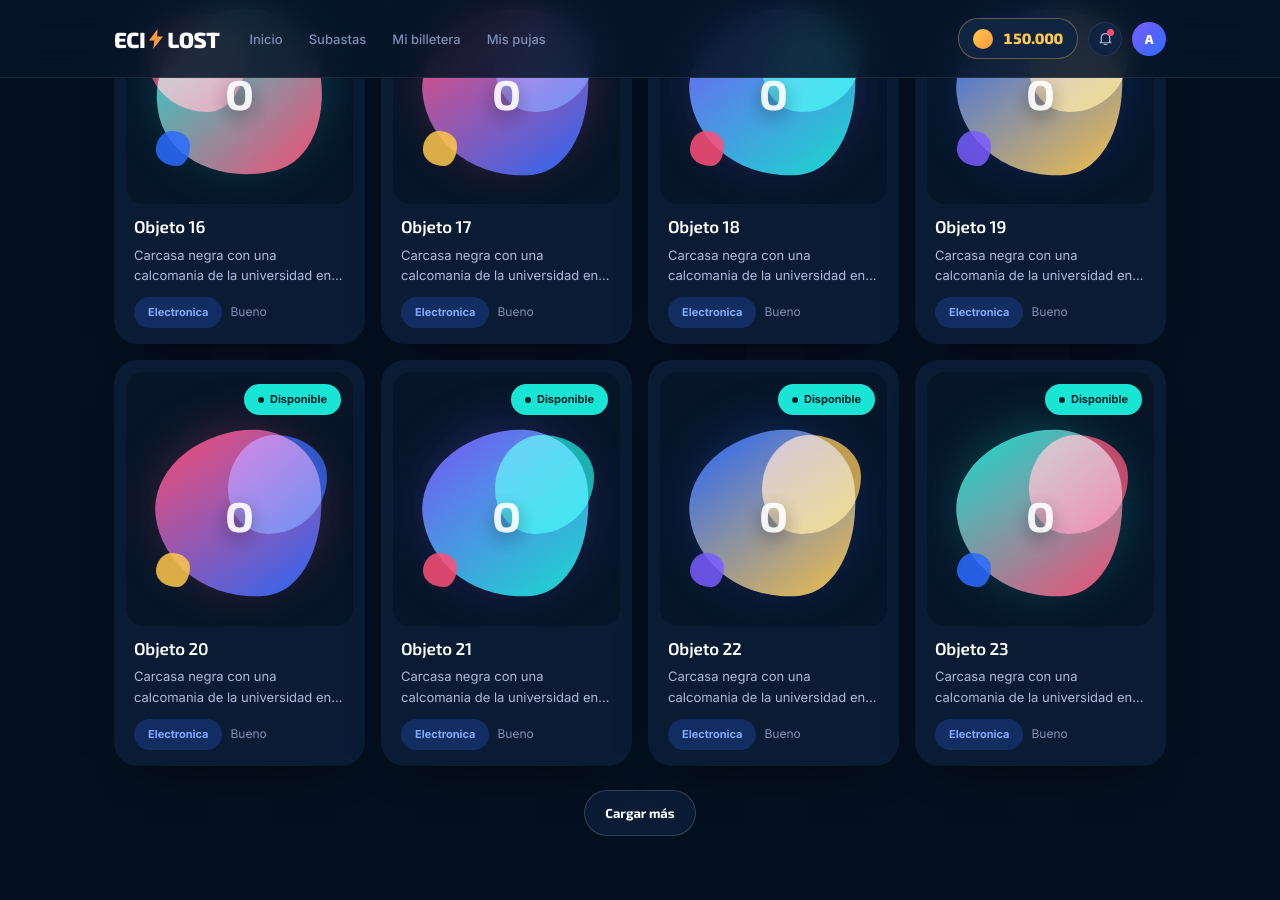
Catalogo › no finge que la primera pagina es todo el catalogo: ofrece cargar mas
(page scrolled)
Step 1. Click the button "Cargar más" → point(640, 813), box [584,790,696,836]
(page scrolled)
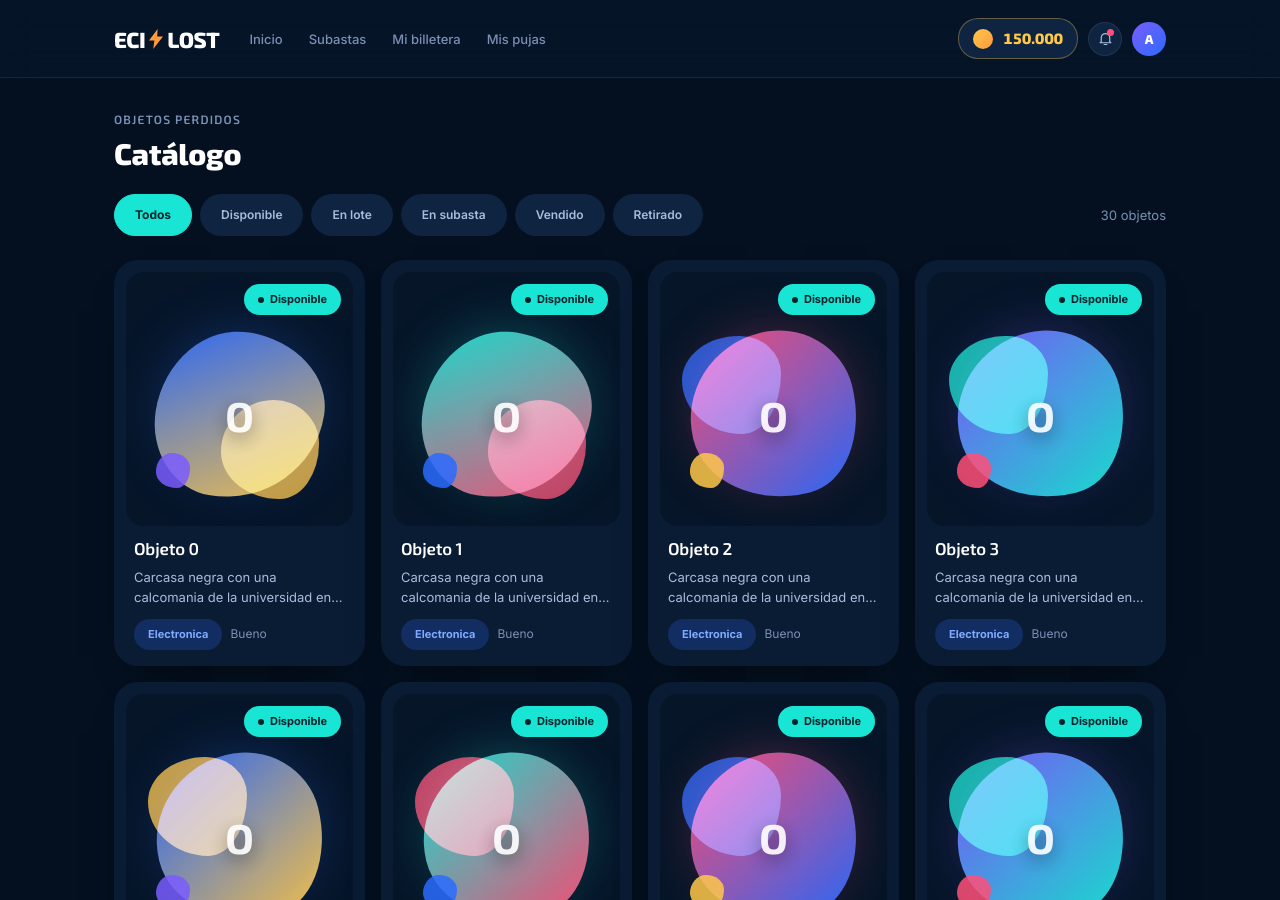
Result: the text "30 objetos" is shown at [1100,205,1166,225]
Result: the button "Cargar más" is gone
